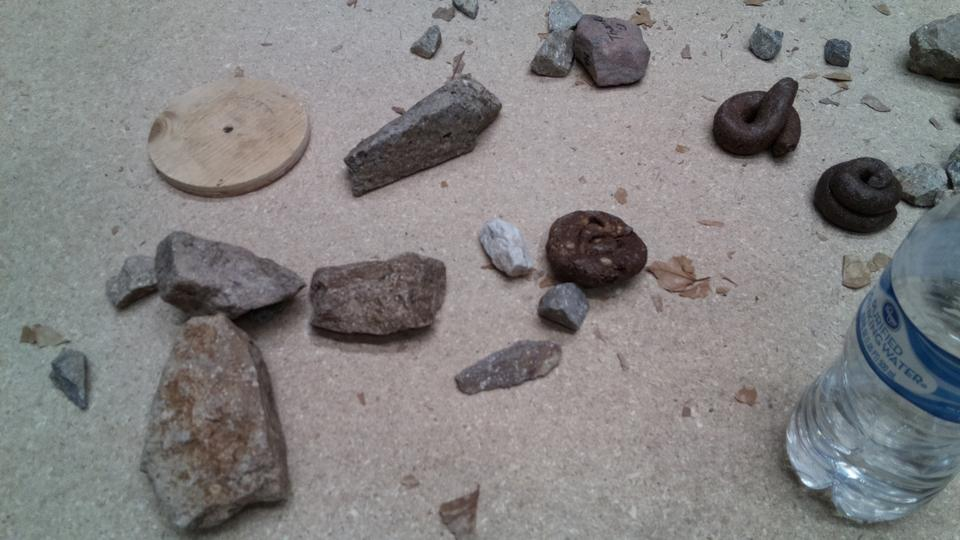poop: (542, 209, 652, 293), (711, 75, 802, 162), (813, 155, 906, 238)
